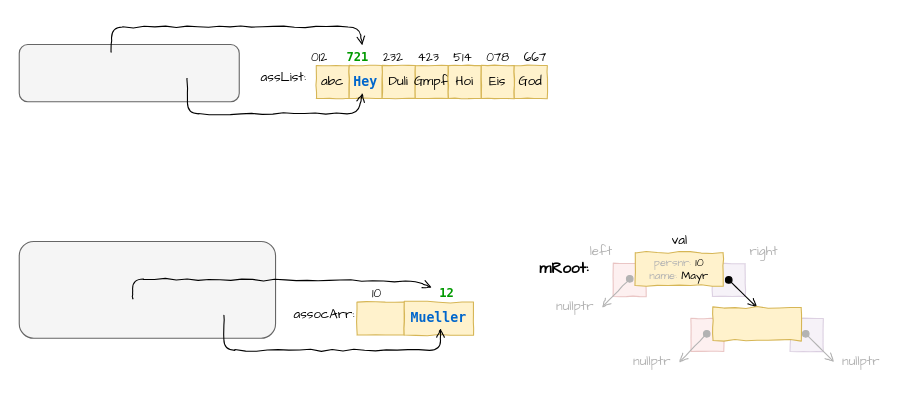
Some shapes in this 908 by 393 pixel diagram are drawn without their labels. Each missing label, with the box of its shape:
12 Mueller: (712, 306, 801, 340)
assList[" 721 "] = " Hey" ;: (18, 43, 239, 102)
assocArr[" 10 "] = " Mayr" ; assocArr[" 12 "] = " Mueller" ;: (18, 240, 276, 338)
Mayr: (356, 301, 404, 335)
